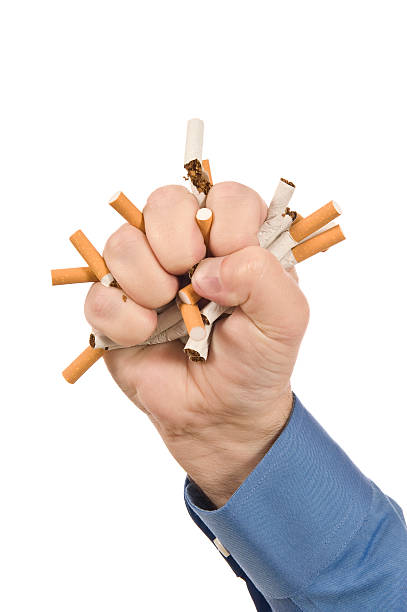cigarette: (84, 303, 182, 351), (271, 196, 343, 256), (279, 222, 348, 270), (67, 228, 116, 287), (55, 342, 105, 389), (104, 190, 144, 234), (256, 206, 296, 247), (265, 177, 296, 220), (181, 117, 203, 175), (49, 265, 102, 289), (179, 302, 208, 343), (180, 324, 212, 359), (200, 300, 232, 326), (193, 206, 214, 244), (189, 174, 212, 206), (175, 283, 203, 306), (187, 340, 209, 365), (202, 156, 214, 185)
